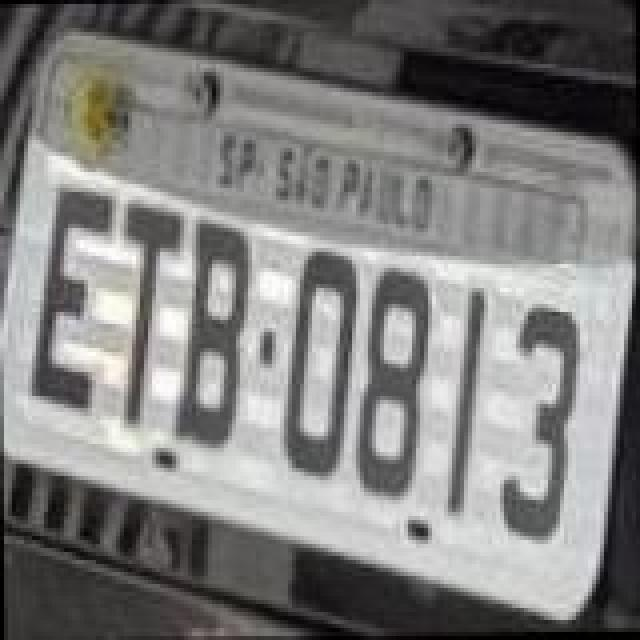1: (438, 288, 494, 520)
3: (494, 304, 582, 544)
8: (354, 264, 434, 496)
B: (168, 220, 256, 452)
E: (24, 184, 120, 416)
O: (278, 246, 362, 478)
T: (118, 202, 186, 426)
